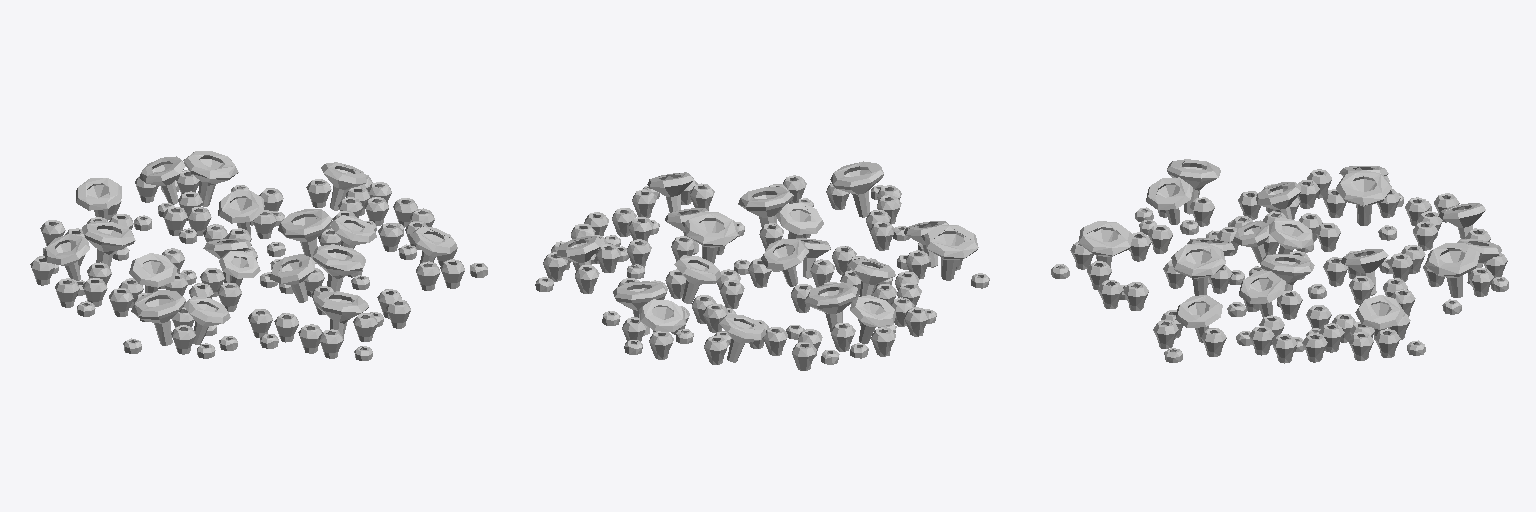
Rendered from Sippysup_Stage3_LOD1.obj.
3 renders of one model, left to right at view 1: azimuth 30°, elevation 25°; view 2: azimuth 150°, elevation 25°; view 3: azimuth 270°, elevation 25°, orthographic.
Parts seen in each view (by area): view 1: Cylinder.215; view 2: Cylinder.215; view 3: Cylinder.215.
Part boxes in pixels (left/top/right/bottom): Cylinder.215: left=30, top=151, right=487, bottom=360; Cylinder.215: left=535, top=161, right=989, bottom=370; Cylinder.215: left=1051, top=159, right=1508, bottom=363.
Bounding box in the file's own units: 1.63 × 0.2147 × 1.8.